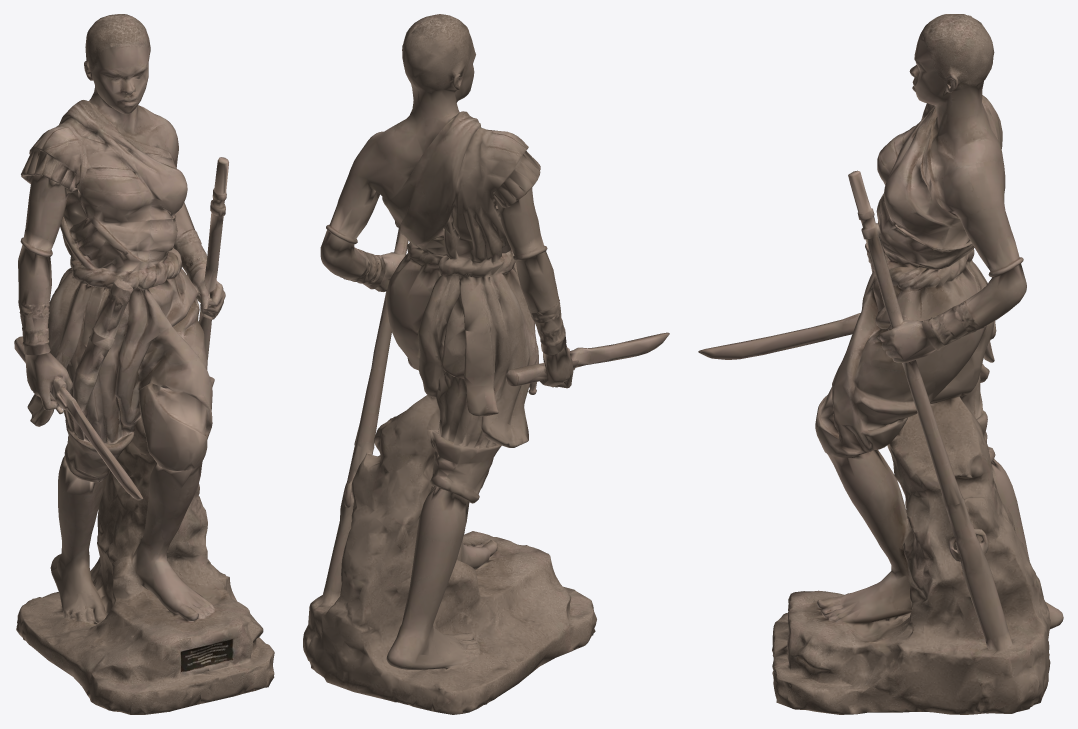
File: amazone.glb
3 renders of one model, left to right at view 1: azimuth 30°, elevation 25°; view 2: azimuth 150°, elevation 25°; view 3: azimuth 270°, elevation 25°, orthographic. The views are drawn at different scales.
Parts seen in each view (by area): view 1: mesh_node; view 2: mesh_node; view 3: mesh_node.
Boxes of the visible parts, bbox=[...] form: mesh_node: bbox=[14, 14, 274, 714]; mesh_node: bbox=[303, 14, 669, 714]; mesh_node: bbox=[698, 14, 1063, 714].
Bounding box in the file's own units: 0.6591 × 1.9 × 0.9649.
1 material, 1 textured.
